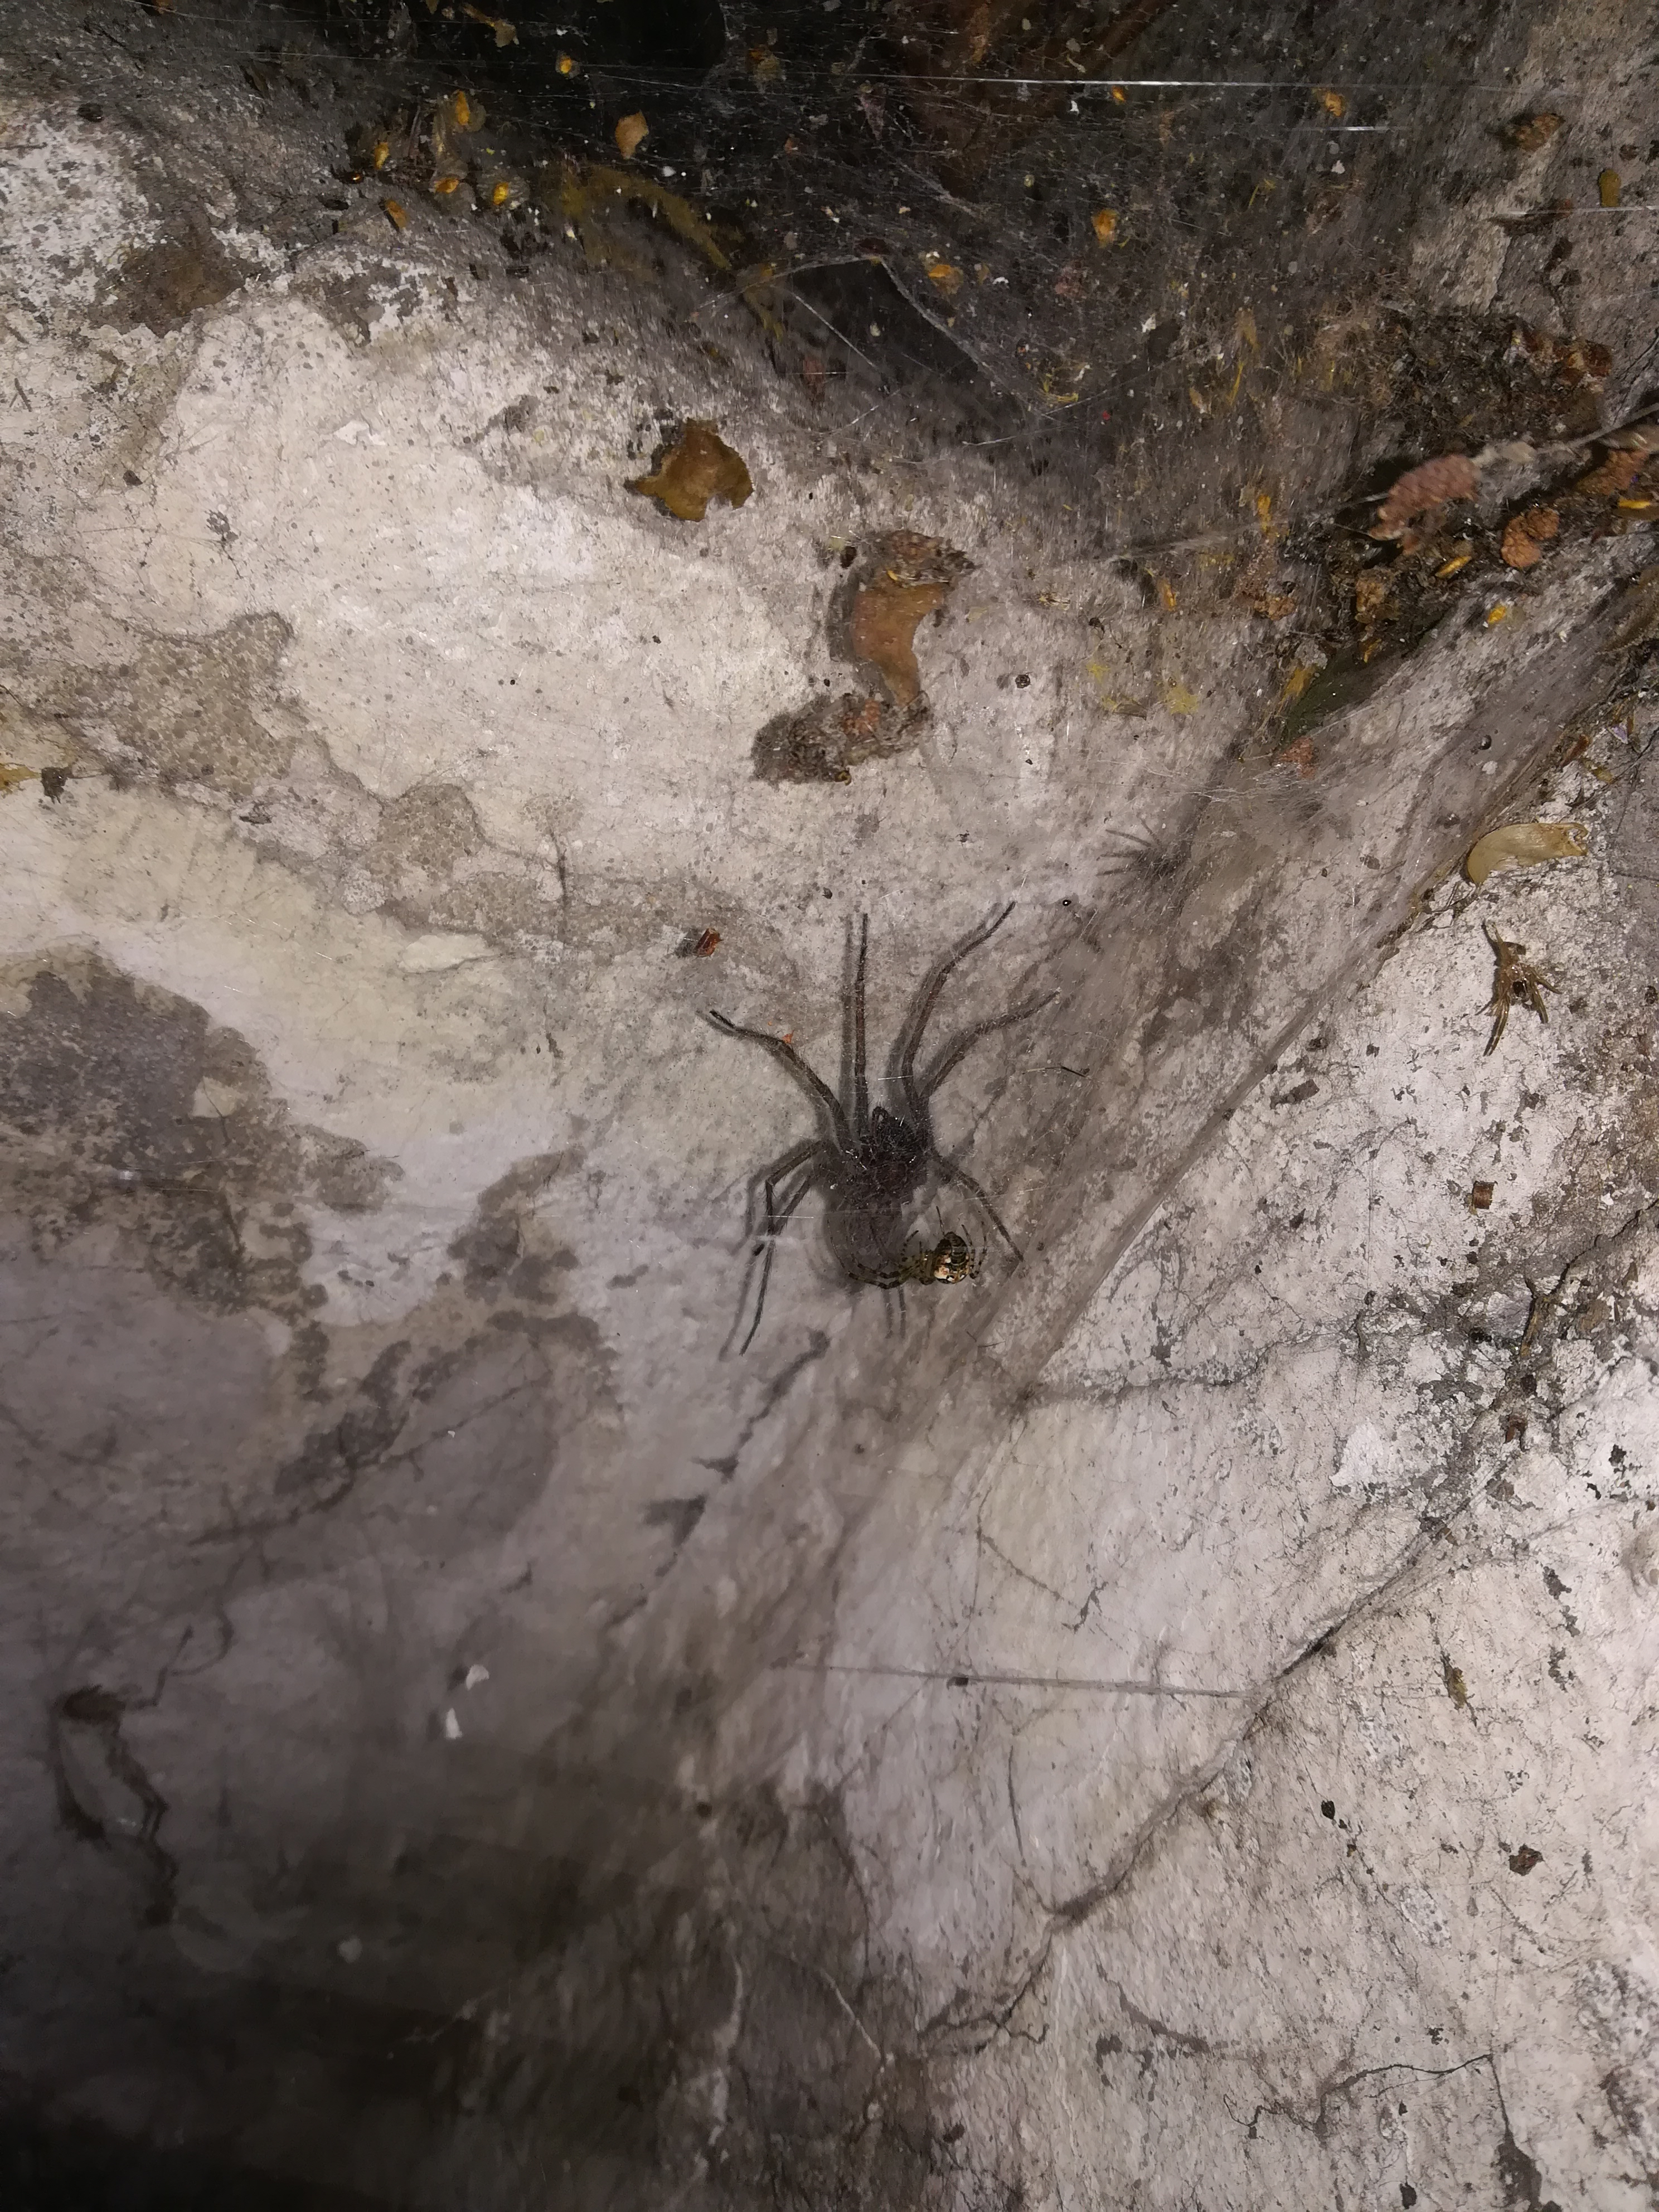spider: (664, 860, 1086, 1388)
